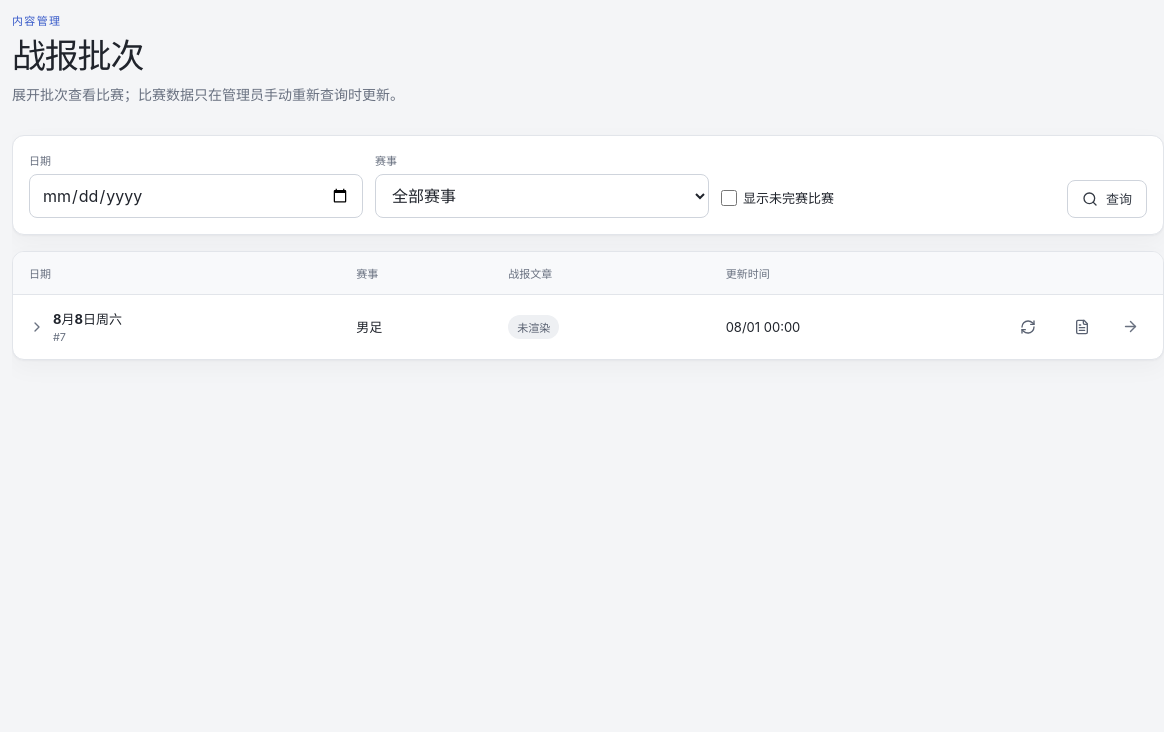
stage 6 report batches › updates expanded match reports after batch rendering (success=true)
Step 1. Click the button "8月8日" → (75,327), box [29,309,122,344]
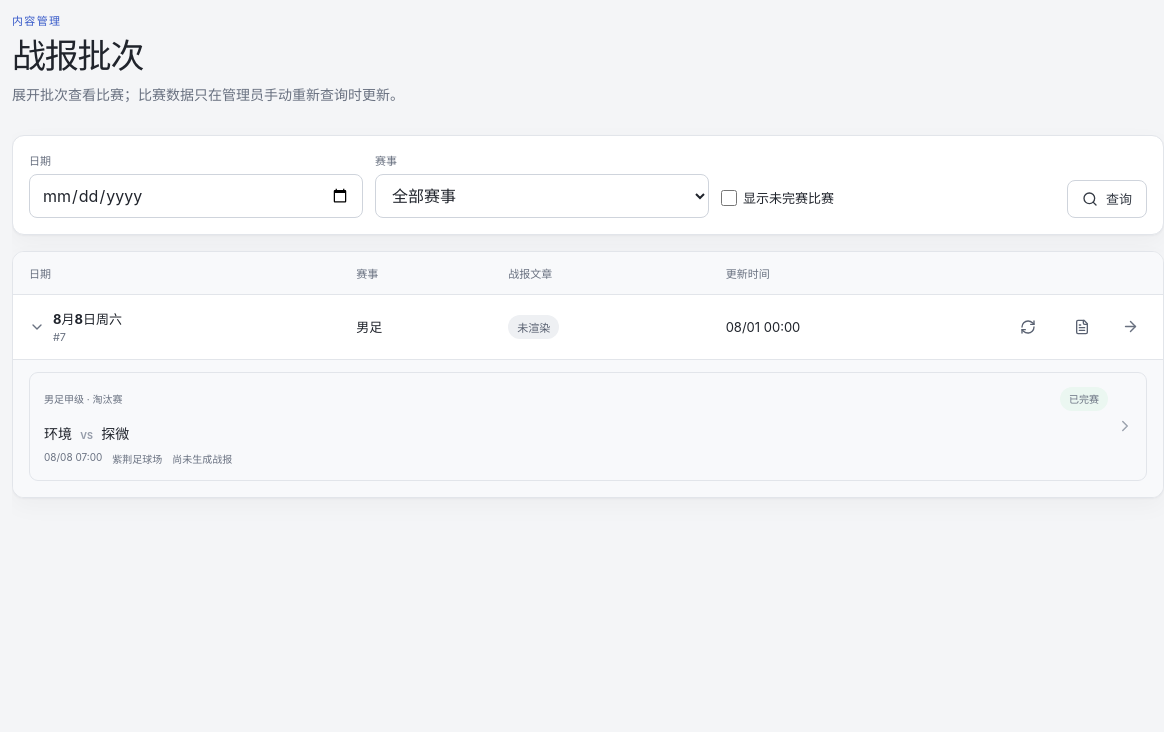
Result: the text "尚未生成战报" is shown at [172,450,232,466]
Step 2. Click the button named "渲染文章" → (1082,326), box [1059,308,1105,346]
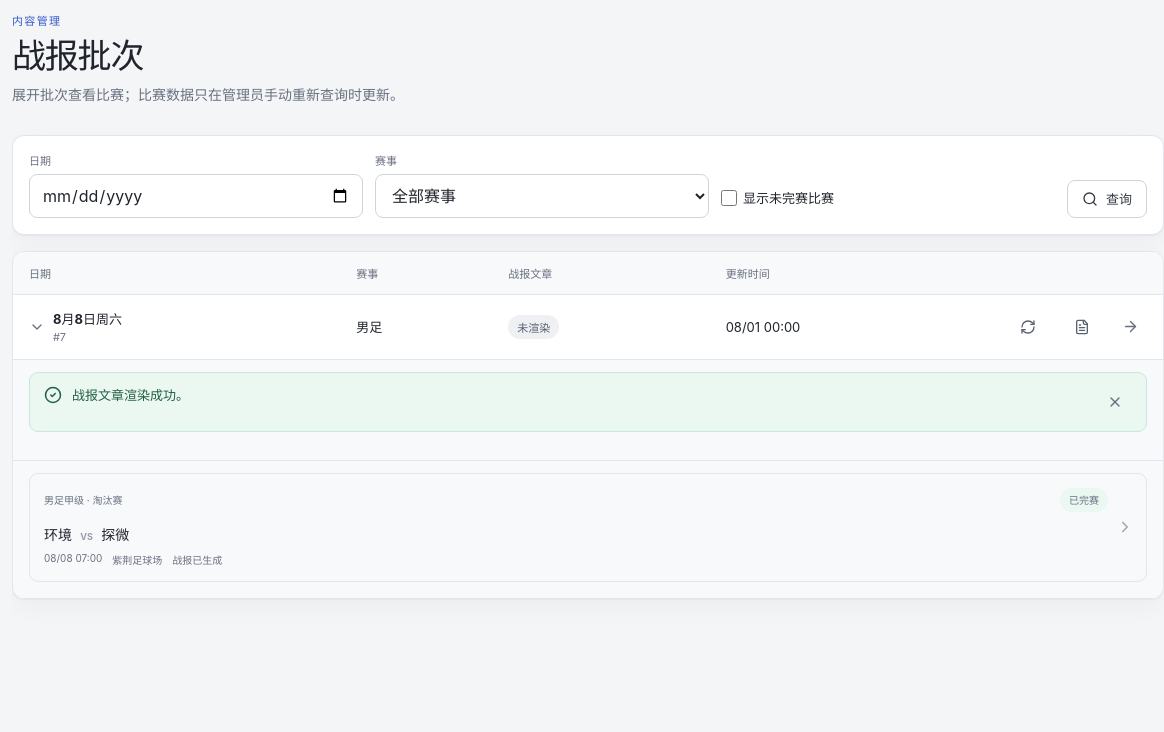
Result: the text "战报已生成" is shown at [172,552,222,566]
Result: the link "尚未生成战报" is gone
